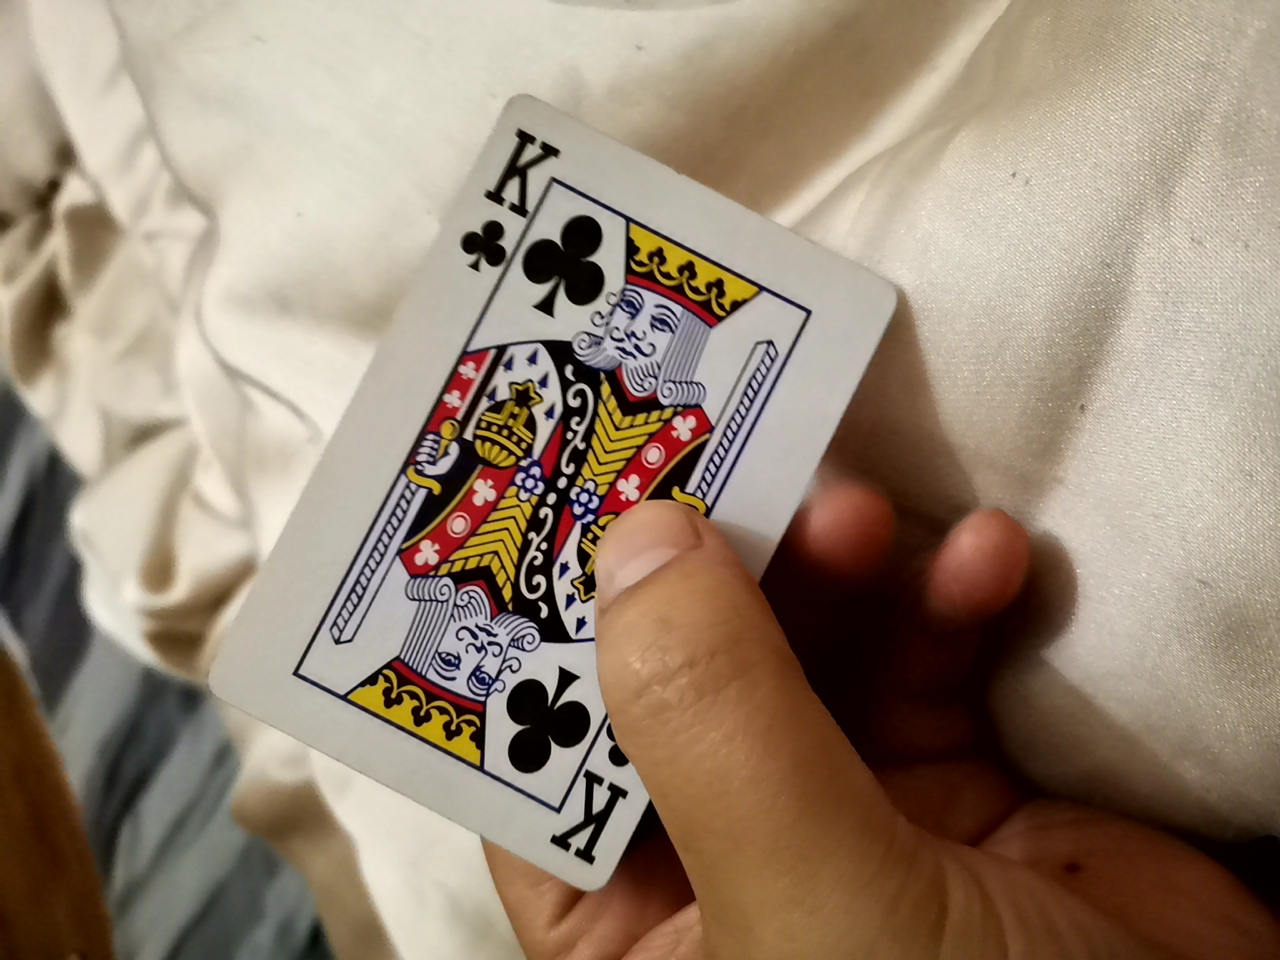mh k: (288, 75, 894, 881)
